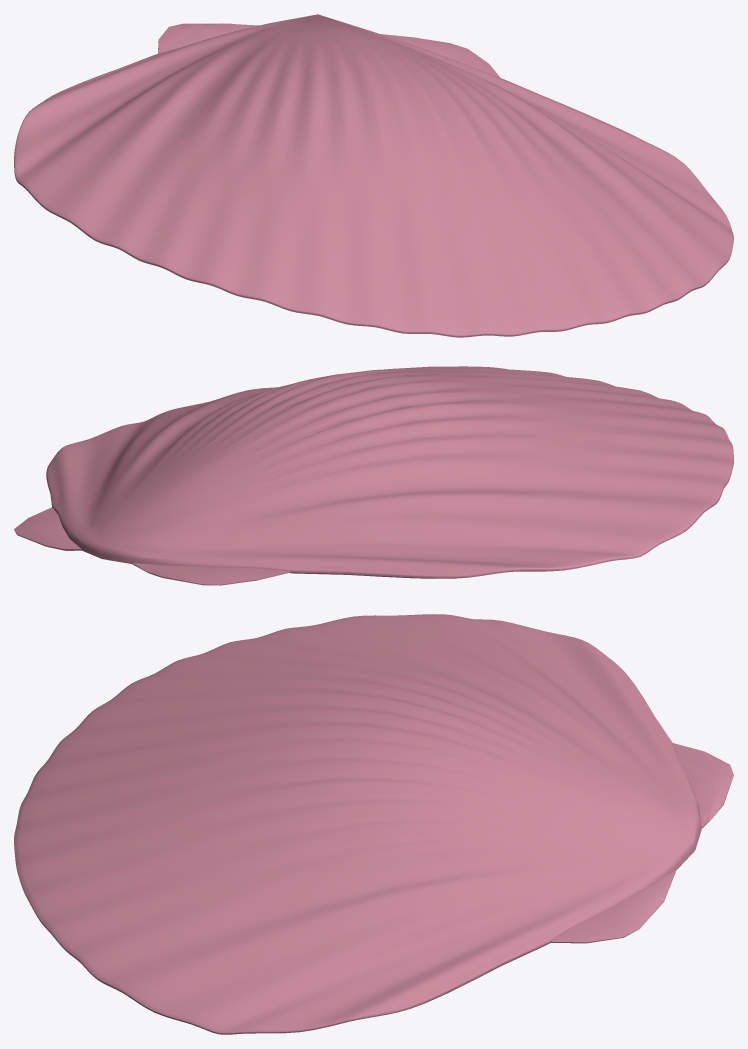
The model's file is shell.glb.
3 views of the same model, one above another, from view 1: azimuth 30°, elevation 25°; view 2: azimuth 150°, elevation 25°; view 3: azimuth 270°, elevation 25° (orthographic). The views are drawn at different scales.
Visible parts, largest first — view 1: Shell; view 2: Shell; view 3: Shell.
Boxes of the visible parts, <box> form: Shell: <box>14,14,733,337</box>; Shell: <box>14,366,733,585</box>; Shell: <box>14,614,733,1034</box>.
Bounding box in the file's own units: 1.96 × 0.4787 × 1.91.
